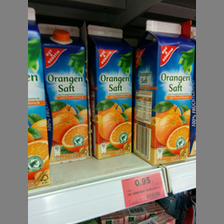juice: (134, 20, 196, 165), (38, 21, 90, 160), (86, 24, 136, 160)
